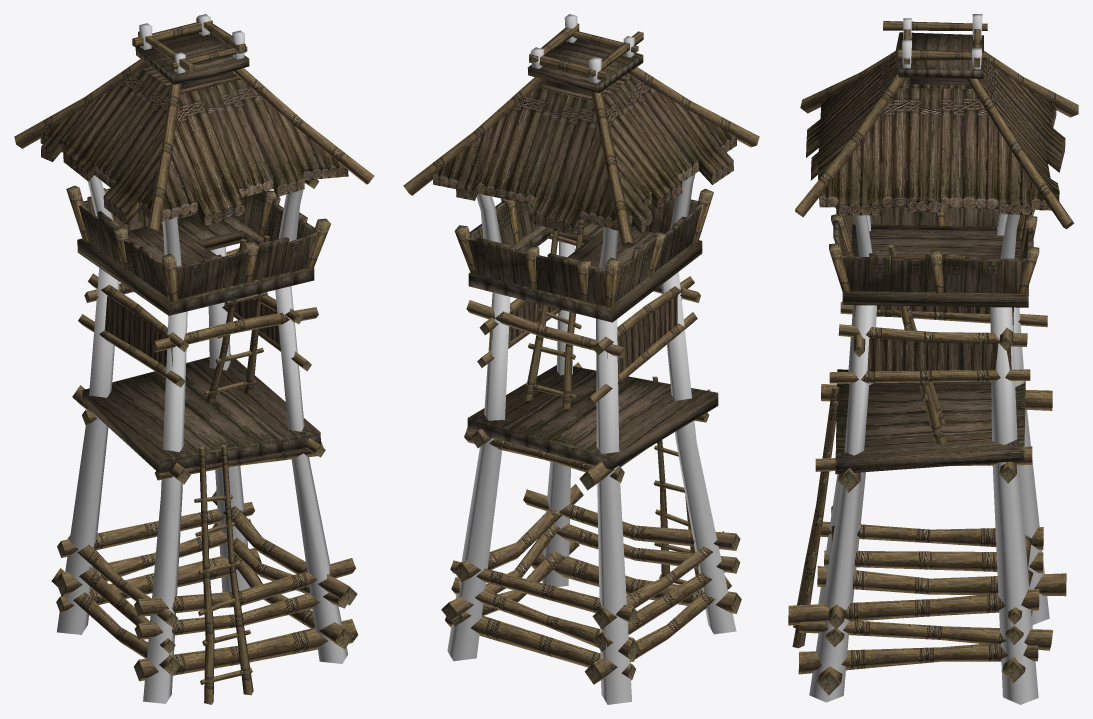
File: talou01.FBX
3 renders of one model, left to right at view 1: azimuth 30°, elevation 25°; view 2: azimuth 150°, elevation 25°; view 3: azimuth 270°, elevation 25°, orthographic. The views are drawn at different scales.
Parts seen in each view (by area): view 1: talou03, talou05, talou02, talou04, talou01; view 2: talou03, talou02, talou05, talou04, talou01; view 3: talou03, talou02, talou05, talou04, talou01.
Part boxes in pixels (bbox=[...]): talou03: bbox=[14, 17, 374, 704]; talou05: bbox=[77, 32, 320, 473]; talou02: bbox=[40, 67, 348, 366]; talou04: bbox=[57, 14, 347, 703]; talou01: bbox=[56, 39, 357, 684]; talou03: bbox=[403, 23, 759, 684]; talou02: bbox=[433, 74, 736, 375]; talou05: bbox=[467, 38, 718, 469]; talou04: bbox=[447, 14, 736, 704]; talou01: bbox=[441, 46, 741, 684]; talou03: bbox=[788, 21, 1078, 682]; talou02: bbox=[806, 57, 1065, 371]; talou05: bbox=[833, 32, 1034, 474]; talou04: bbox=[809, 14, 1049, 704]; talou01: bbox=[795, 59, 1073, 695].
Bounding box in the file's own units: 759 × 1923 × 803.
